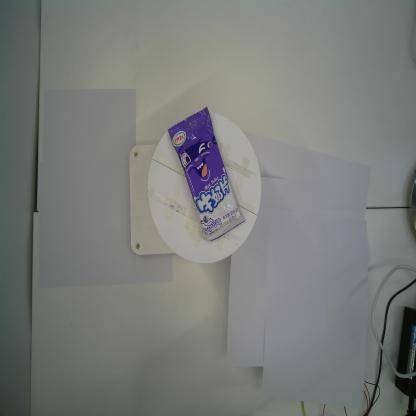Candy: (168, 105, 245, 242)
